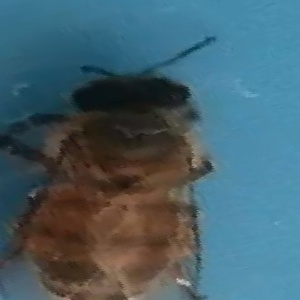bee: (13, 34, 243, 300)
